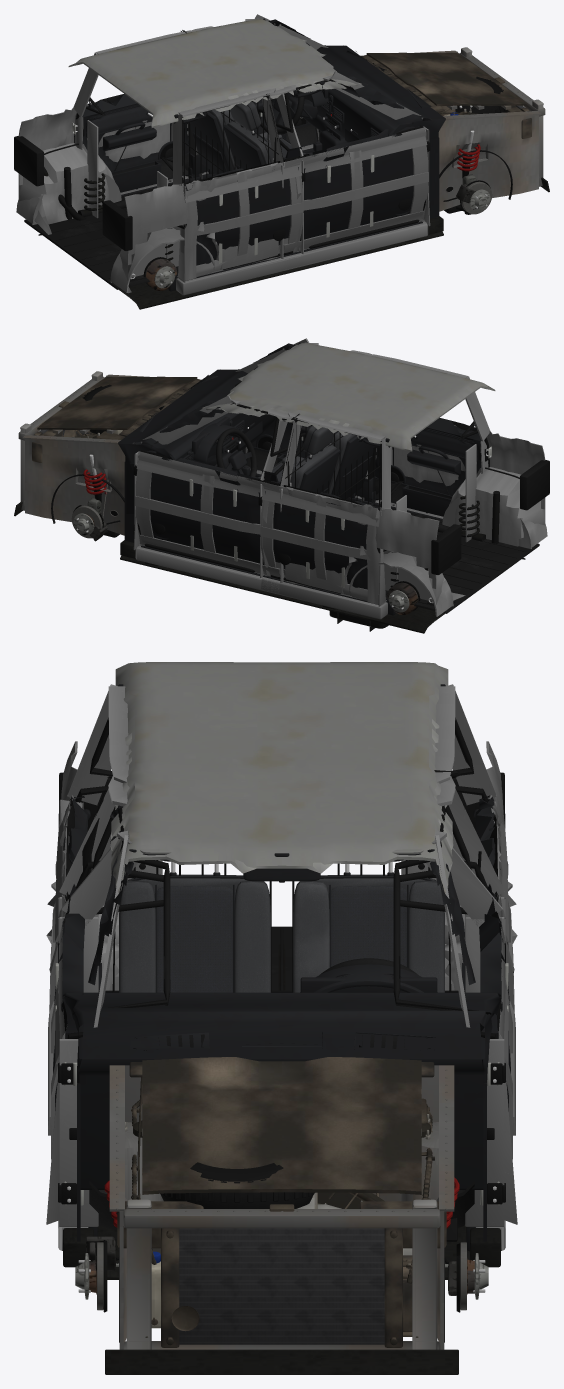
File: furgaozinho_completo.glb
3 renders of one model, top to bottom at view 1: azimuth 30°, elevation 25°; view 2: azimuth 150°, elevation 25°; view 3: azimuth 270°, elevation 25°, orthographic. The views are drawn at different scales.
Parts seen in each view (by area): view 1: interior_carga, interior_forro_teto, engine_paralama_interno_dir, door_card_fr_chapa, interior_painel, door_card_fr, door_card_rr_chapa, hood_manta, door_card_rl, door_card_rr, interior_portamalas_lanternas, jamb_fr_soleira (+24 smaller); view 2: interior_carga, interior_forro_teto, engine_paralama_interno_esq, door_card_fl_chapa, interior_painel, door_card_fl, door_card_rl_chapa, hood_manta, door_card_rr, door_card_rl, interior_portamalas_lanternas, jamb_fl_soleira (+25 smaller); view 3: interior_forro_teto, interior_painel, hood_manta, engine_radiador, engine_travessa, interior_banco_dianteiro_dir, interior_banco_dianteiro_esq, under_saias, jamb_rl_colunas, jamb_rr_colunas, jamb_fl_colunas, jamb_fr_colunas (+27 smaller).
Boxes of the visible parts, x1=… form: interior_carga: x1=16, y1=102, x2=278, y2=293; interior_forro_teto: x1=68, y1=19, x2=361, y2=127; engine_paralama_interno_dir: x1=430, y1=108, x2=541, y2=211; door_card_fr_chapa: x1=283, y1=127, x2=430, y2=253; interior_painel: x1=287, y1=45, x2=445, y2=142; door_card_fr: x1=284, y1=125, x2=423, y2=239; door_card_rr_chapa: x1=177, y1=158, x2=303, y2=282; hood_manta: x1=366, y1=52, x2=526, y2=109; door_card_rl: x1=82, y1=94, x2=189, y2=192; door_card_rr: x1=183, y1=157, x2=298, y2=265; interior_portamalas_lanternas: x1=14, y1=136, x2=132, y2=250; jamb_fr_soleira: x1=284, y1=221, x2=428, y2=270; interior_carga: x1=285, y1=426, x2=547, y2=616; interior_forro_teto: x1=202, y1=343, x2=495, y2=451; engine_paralama_interno_esq: x1=22, y1=432, x2=133, y2=535; door_card_fl_chapa: x1=133, y1=451, x2=280, y2=577; interior_painel: x1=118, y1=369, x2=276, y2=513; door_card_fl: x1=140, y1=450, x2=279, y2=563; door_card_rl_chapa: x1=260, y1=482, x2=386, y2=606; hood_manta: x1=37, y1=376, x2=197, y2=433; door_card_rr: x1=374, y1=418, x2=481, y2=516; door_card_rl: x1=265, y1=481, x2=380, y2=589; interior_portamalas_lanternas: x1=431, y1=460, x2=549, y2=574; jamb_fl_soleira: x1=135, y1=545, x2=280, y2=594; interior_forro_teto: x1=110, y1=662, x2=453, y2=893; interior_painel: x1=62, y1=964, x2=501, y2=1189; hood_manta: x1=142, y1=1057, x2=421, y2=1194; engine_radiador: x1=161, y1=1228, x2=402, y2=1347; engine_travessa: x1=117, y1=1193, x2=446, y2=1349; interior_banco_dianteiro_dir: x1=119, y1=859, x2=270, y2=992; interior_banco_dianteiro_esq: x1=293, y1=859, x2=444, y2=992; under_saias: x1=63, y1=1228, x2=500, y2=1374; jamb_rl_colunas: x1=401, y1=684, x2=505, y2=992; jamb_rr_colunas: x1=58, y1=684, x2=162, y2=992; jamb_fl_colunas: x1=431, y1=776, x2=505, y2=1226; jamb_fr_colunas: x1=58, y1=775, x2=132, y2=1226.
Size of what is drawn, in the model's own units: 3.25 by 1.46 by 1.52.
53 materials, 53 textured.
